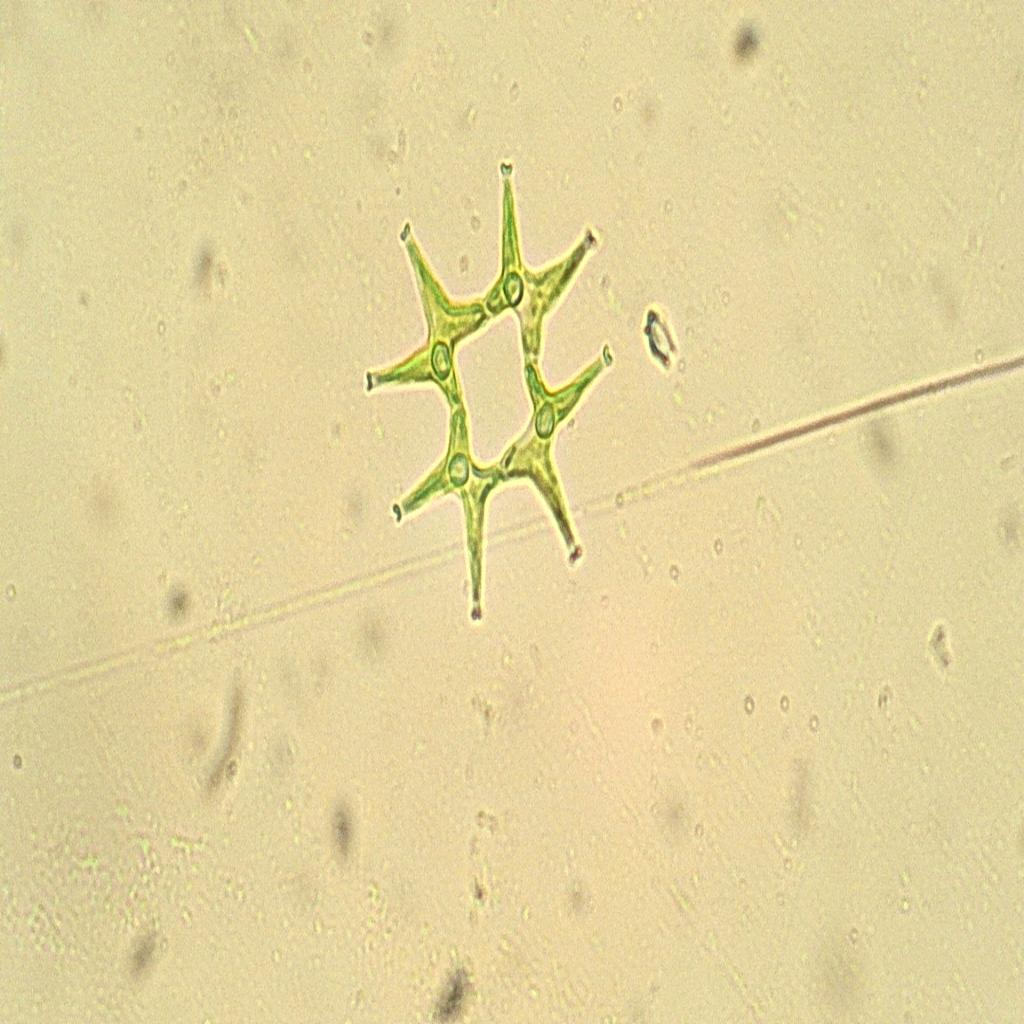Pediastrum_75O: (360, 136, 620, 638)
